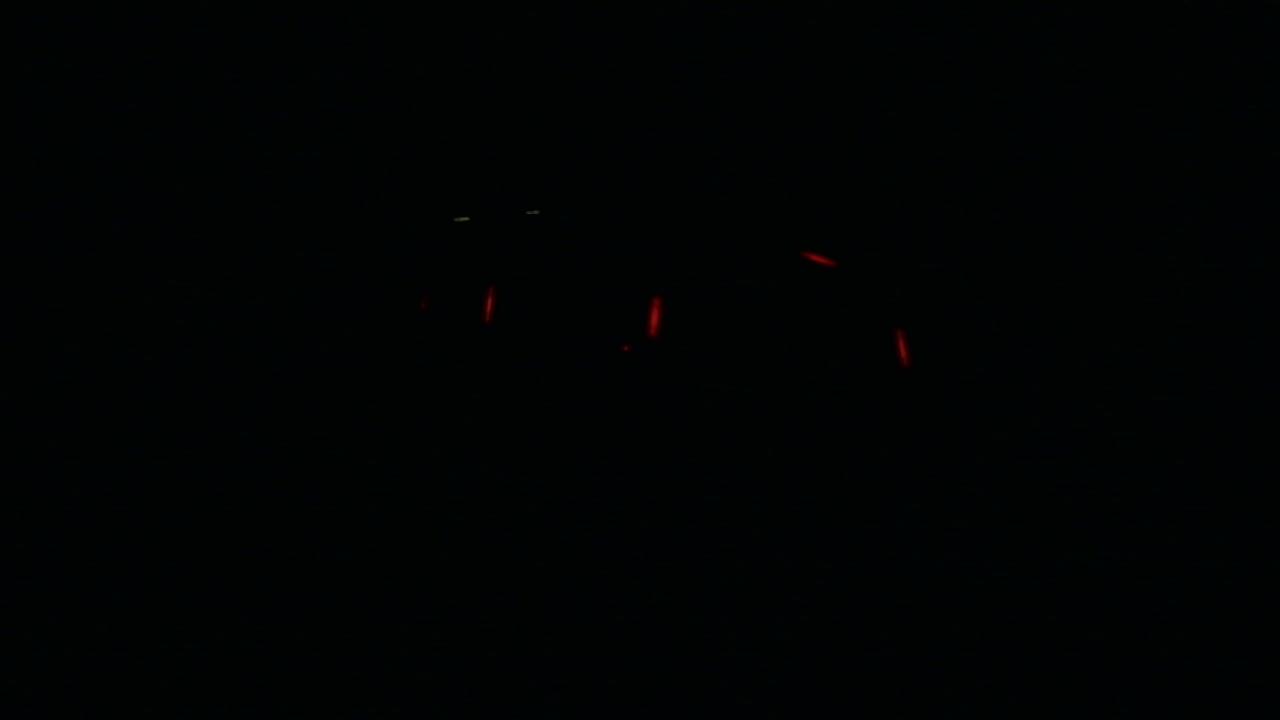lamp: (640, 294, 662, 335), (890, 325, 909, 367), (478, 284, 497, 317)
notpair2: (639, 296, 913, 366)
pair2: (481, 287, 661, 338)
